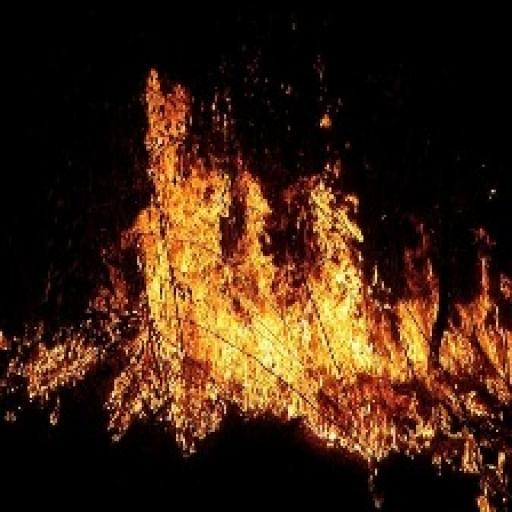fire and smoke: (0, 71, 511, 511)
